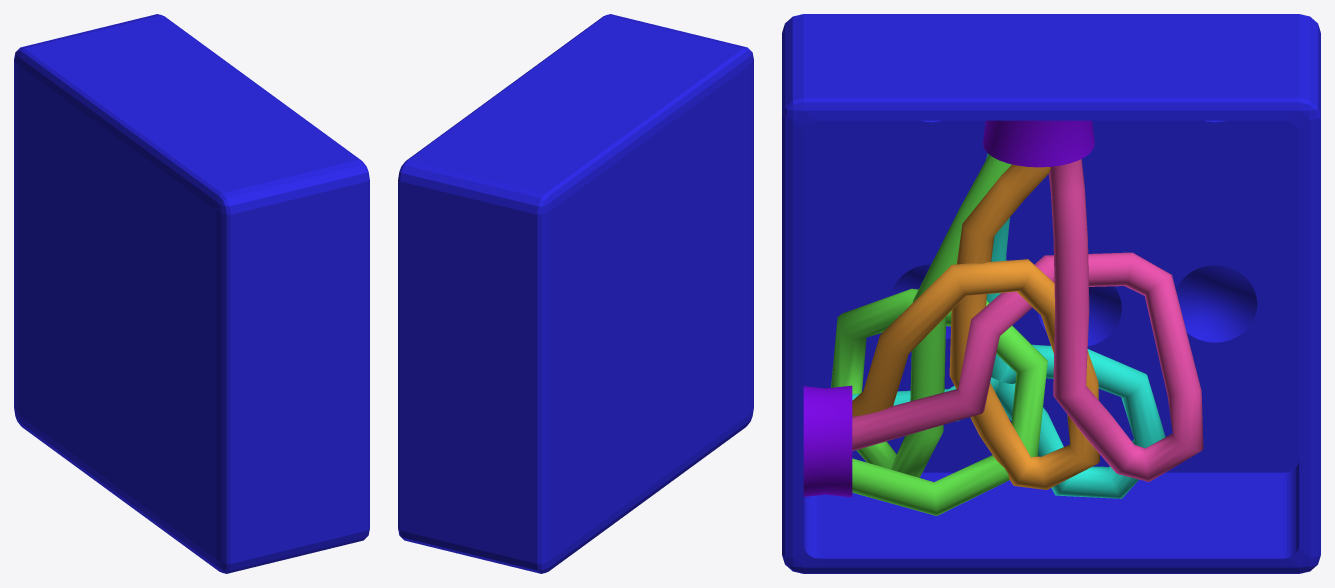
File: _bzweigdose.fbx
3 renders of one model, left to right at view 1: azimuth 30°, elevation 25°; view 2: azimuth 150°, elevation 25°; view 3: azimuth 270°, elevation 25°, orthographic. The views are drawn at different scales.
Parts seen in each view (by area): view 1: Cube.010; view 2: Cube.010; view 3: Cube.010, Plane.005, Plane.004, Plane.002, Cylinder.006, Plane.003.
Part boxes in pixels (box(x1,y1,x2,y2)): Cube.010: box(14, 14, 369, 573); Cube.010: box(398, 14, 753, 573); Cube.010: box(782, 14, 1320, 573); Plane.005: box(852, 159, 1203, 481); Plane.004: box(852, 164, 1099, 489); Plane.002: box(831, 154, 1047, 515); Cylinder.006: box(803, 120, 1094, 497); Plane.003: box(852, 153, 1165, 498).
Size of the model in its own units: 6.88 by 15.22 by 15.62.
